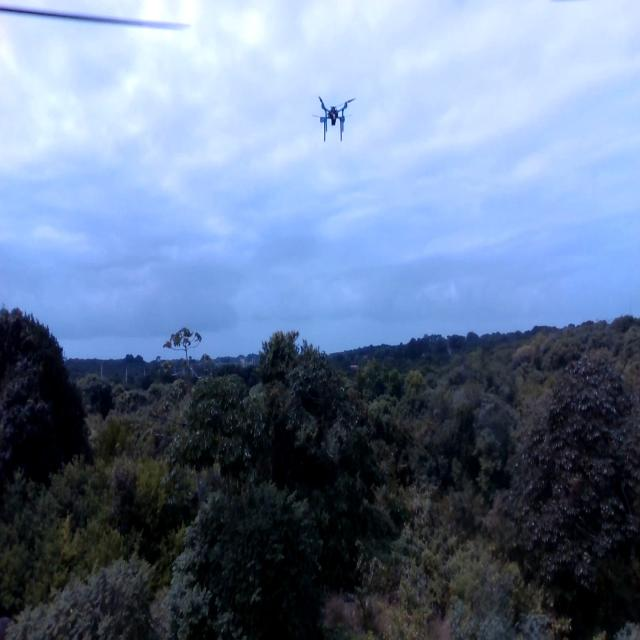-uav-: (305, 84, 361, 148)
